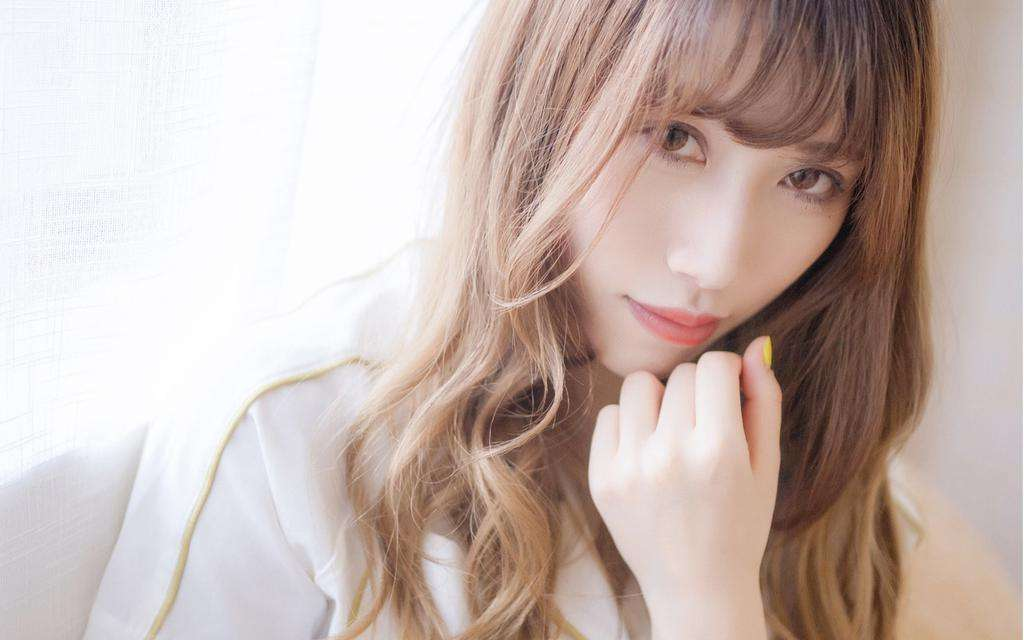person: (409, 8, 992, 540)
